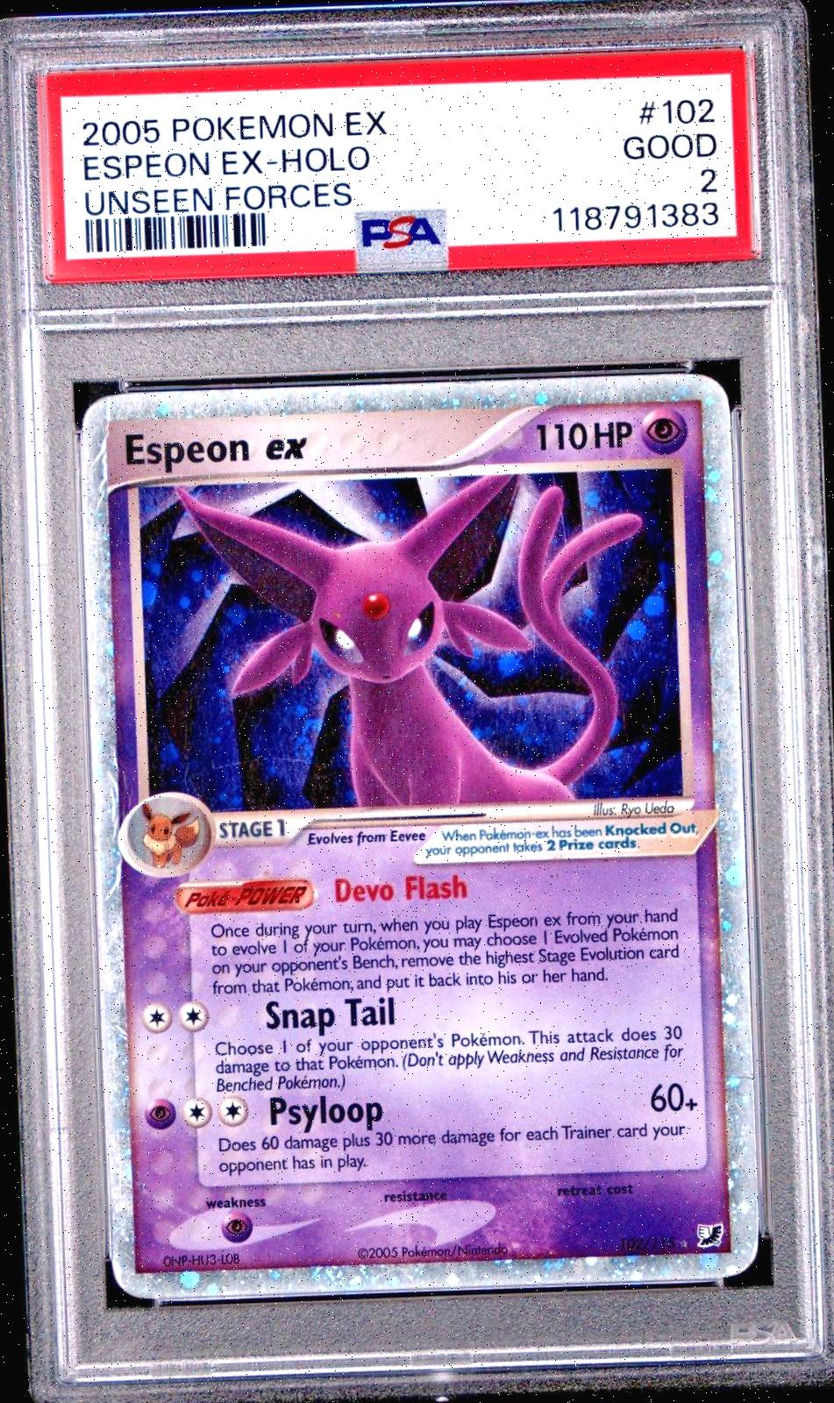card-2UtV: (80, 373, 759, 1300)
